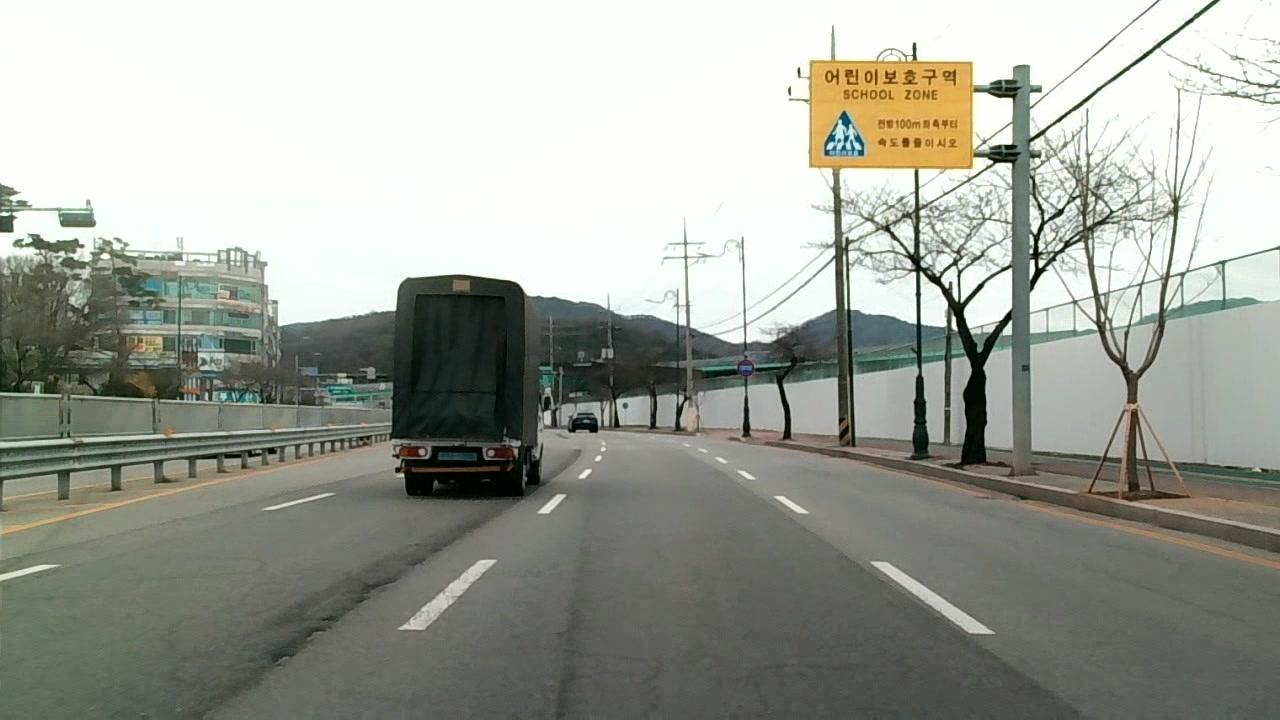vcrack: (276, 535, 457, 658)
